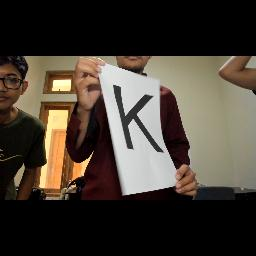k: (108, 84, 172, 154)
